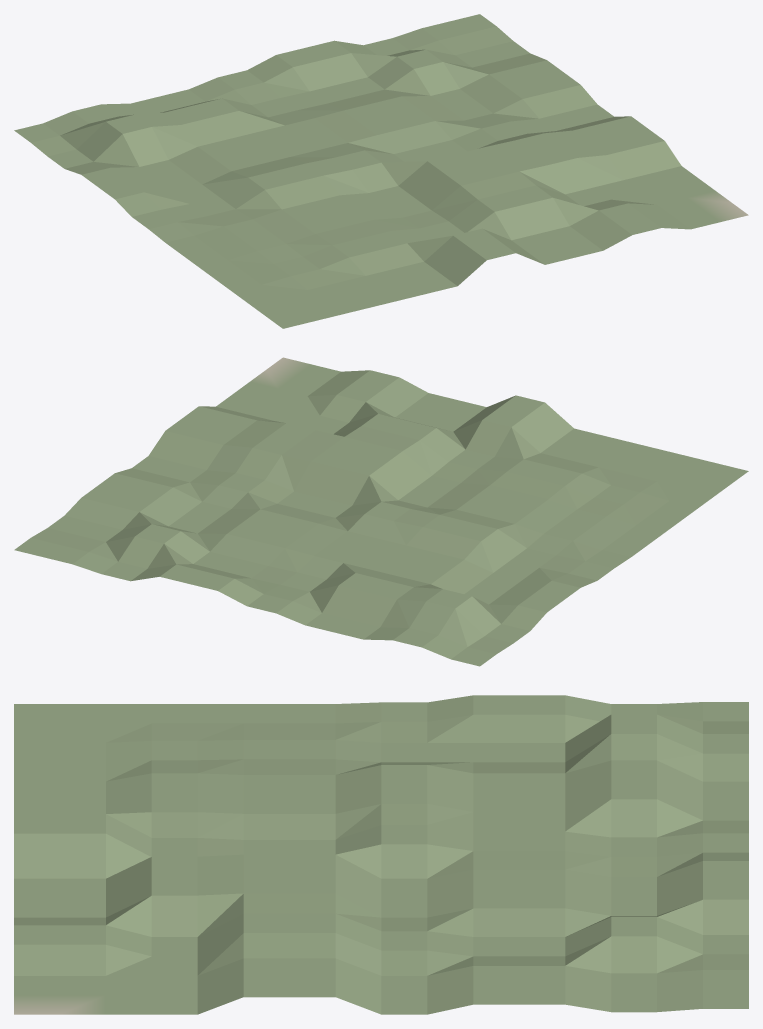
3 views of the same model, one above another, from view 1: azimuth 30°, elevation 25°; view 2: azimuth 150°, elevation 25°; view 3: azimuth 270°, elevation 25° (orthographic). The views are drawn at different scales.
Size of the model in its own units: 32 by 1.36 by 32.
